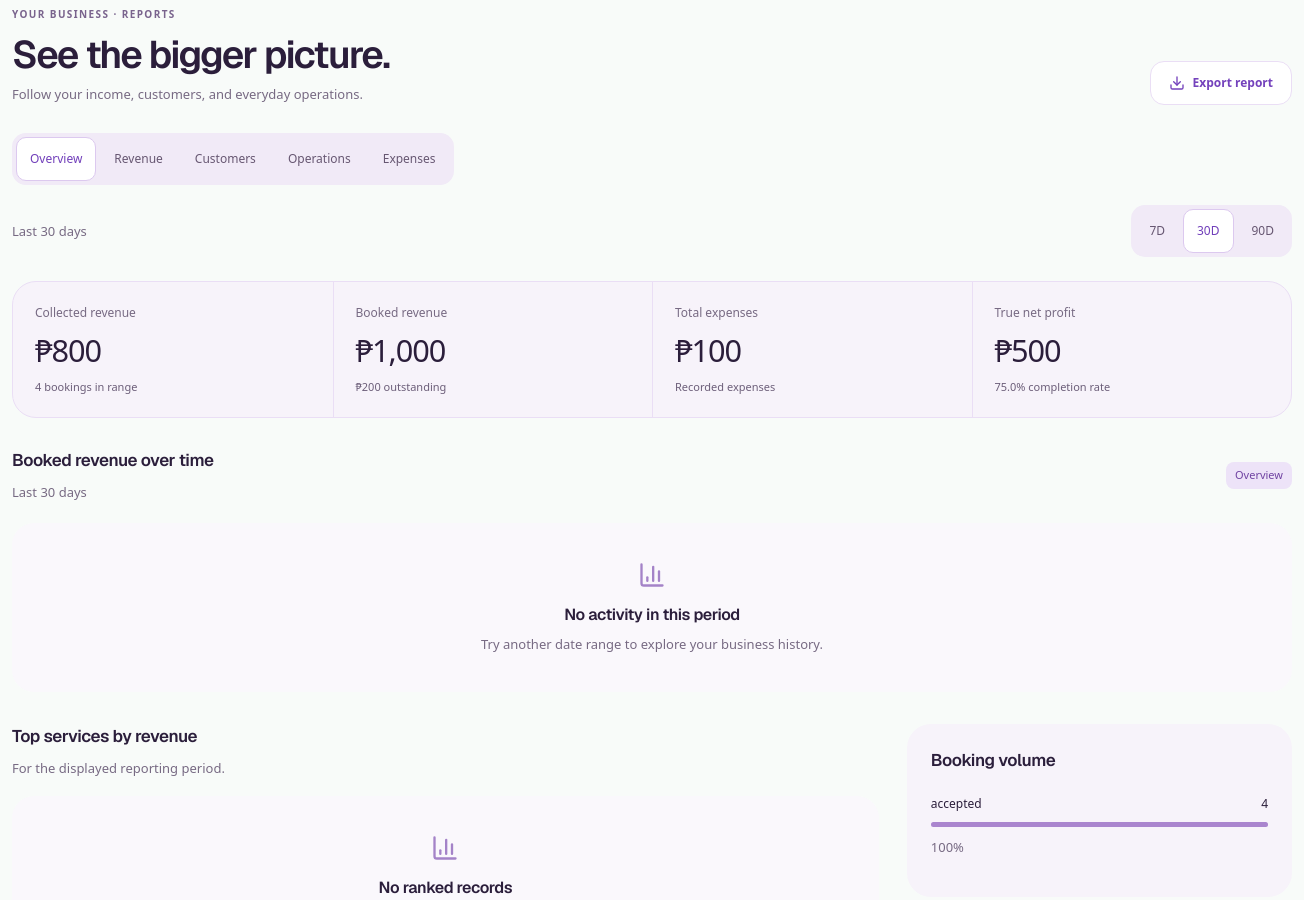
Test: redesigned reports › blocks unsupported expenses exports after the correct report loads
Click the button "Expenses" at (409, 159), box [369,137,450,181]
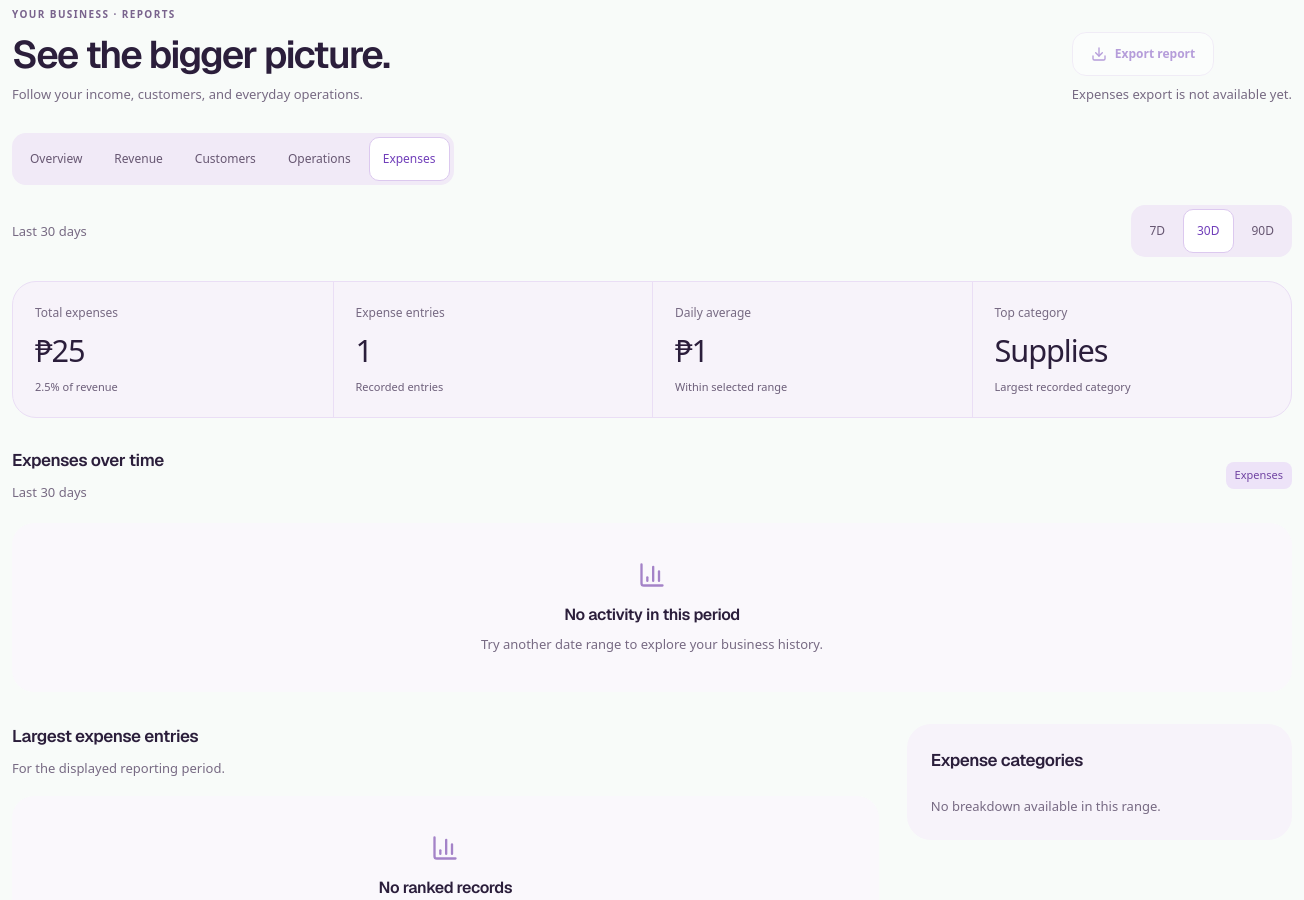
Check: the button "Export report" is disabled, box [1072,32,1214,76]
Check: the text "₱25" is shown, box [35,329,84,371]
Check: the text "Expenses export is not available yet." is shown, box [1072,84,1292,105]
